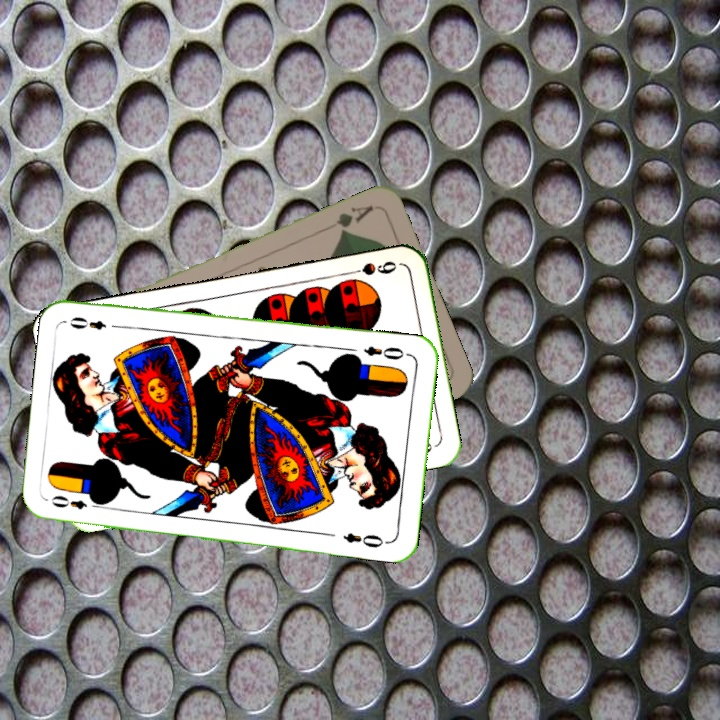EO: (47, 491, 104, 512), (359, 342, 406, 363)
GA: (332, 201, 376, 237)
S9: (342, 257, 399, 278)
